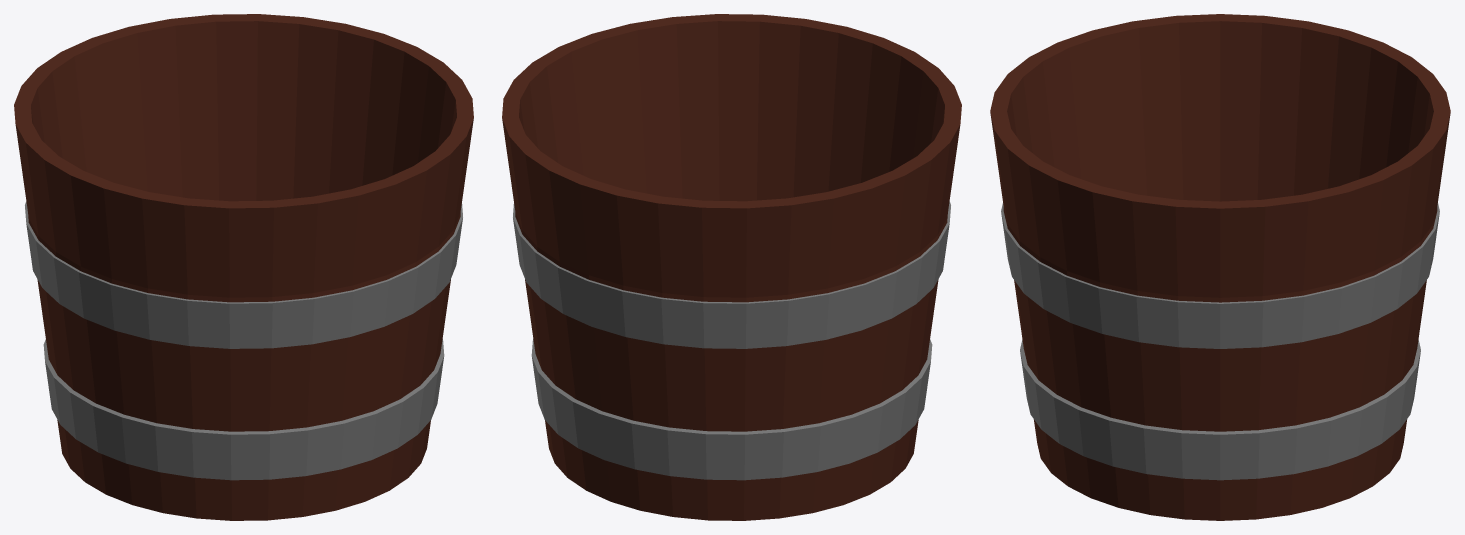
File: Bucket 1.fbx
The picture shows the model from 3 angles, left to right: view 1: azimuth 30°, elevation 25°; view 2: azimuth 150°, elevation 25°; view 3: azimuth 270°, elevation 25°; orthographic projection.
Parts seen in each view (by area): view 1: Cylinder.001; view 2: Cylinder.001; view 3: Cylinder.001.
Boxes of the visible parts, x1,y1,x2,y2 form: Cylinder.001: [14, 14, 473, 520]; Cylinder.001: [502, 14, 961, 520]; Cylinder.001: [990, 14, 1450, 520].
Size of the model in its own units: 648 by 516 by 648.
